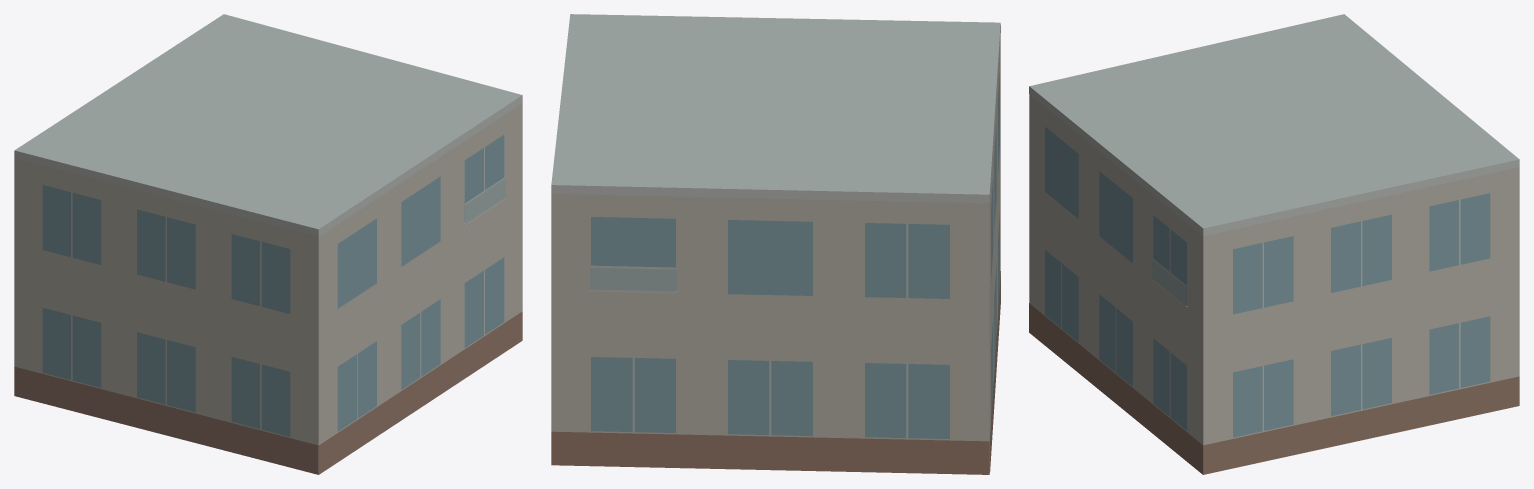
The model's file is survey-upis-32910396.glb.
The picture shows the model from 3 angles, left to right: view 1: azimuth 30°, elevation 25°; view 2: azimuth 150°, elevation 25°; view 3: azimuth 270°, elevation 25°; orthographic projection. The views are drawn at different scales.
Visible parts, largest first — view 1: survey-upis-32910396.tmp; view 2: survey-upis-32910396.tmp; view 3: survey-upis-32910396.tmp.
Boxes of the visible parts, left/top/right/bottom form: survey-upis-32910396.tmp: left=14, top=14, right=522, bottom=474; survey-upis-32910396.tmp: left=551, top=14, right=1000, bottom=474; survey-upis-32910396.tmp: left=1029, top=14, right=1519, bottom=474.
Size of the model in its own units: 14.57 by 7.8 by 14.08.
